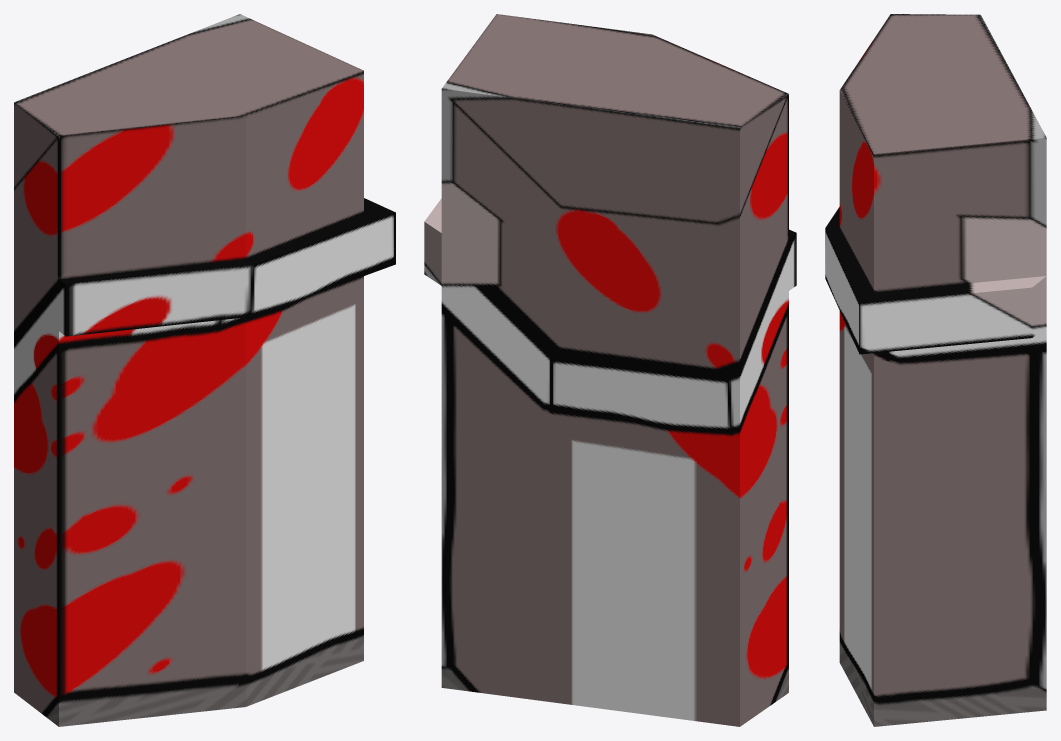
Rendered from storage.fbx.
3 views of the same model, side by side, from view 1: azimuth 30°, elevation 25°; view 2: azimuth 150°, elevation 25°; view 3: azimuth 270°, elevation 25° (orthographic). The views are drawn at different scales.
Parts seen in each view (by area): view 1: Cube.009; view 2: Cube.009; view 3: Cube.009.
Part boxes in pixels (box(x1,y1,x2,y2)): Cube.009: box(14, 14, 395, 726); Cube.009: box(424, 14, 796, 726); Cube.009: box(825, 14, 1046, 726).
Bounding box in the file's own units: 160 × 280 × 98.18.
